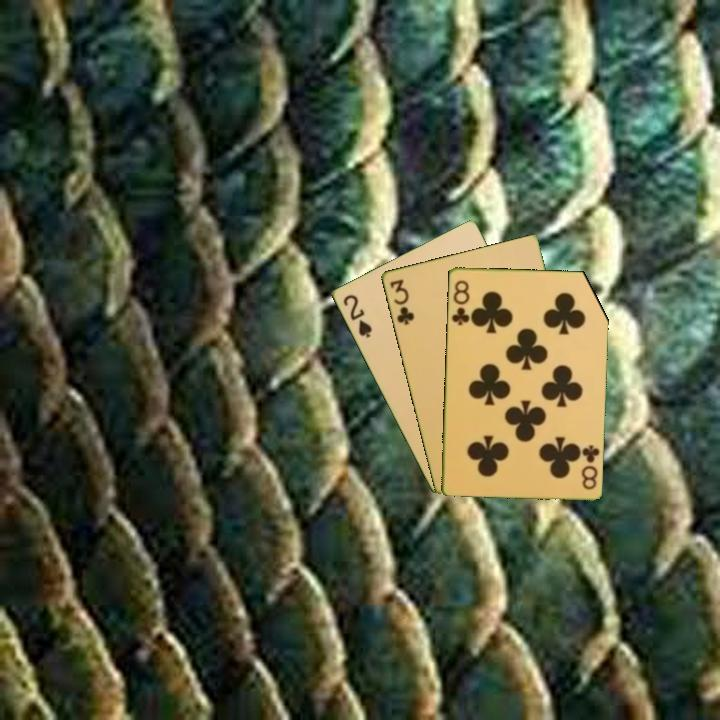2s: (339, 291, 375, 341)
3c: (386, 275, 417, 328)
8c: (577, 441, 602, 492), (448, 276, 472, 328)
